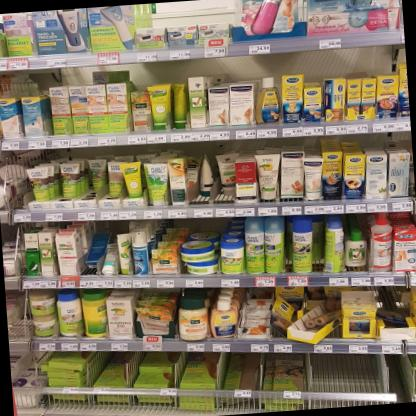empty_space: (311, 350, 384, 409), (212, 167, 236, 207), (190, 171, 212, 204)
